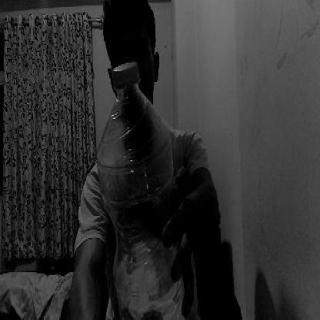plastic_bottles: (98, 62, 190, 318)
